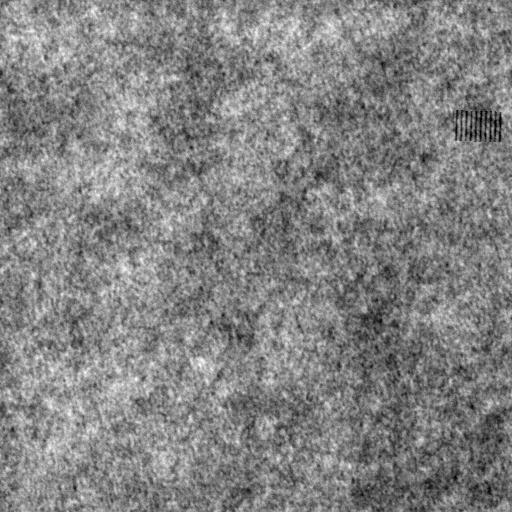impact: (451, 107, 504, 145)
